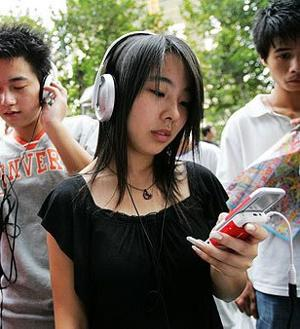person: (38, 34, 267, 328)
